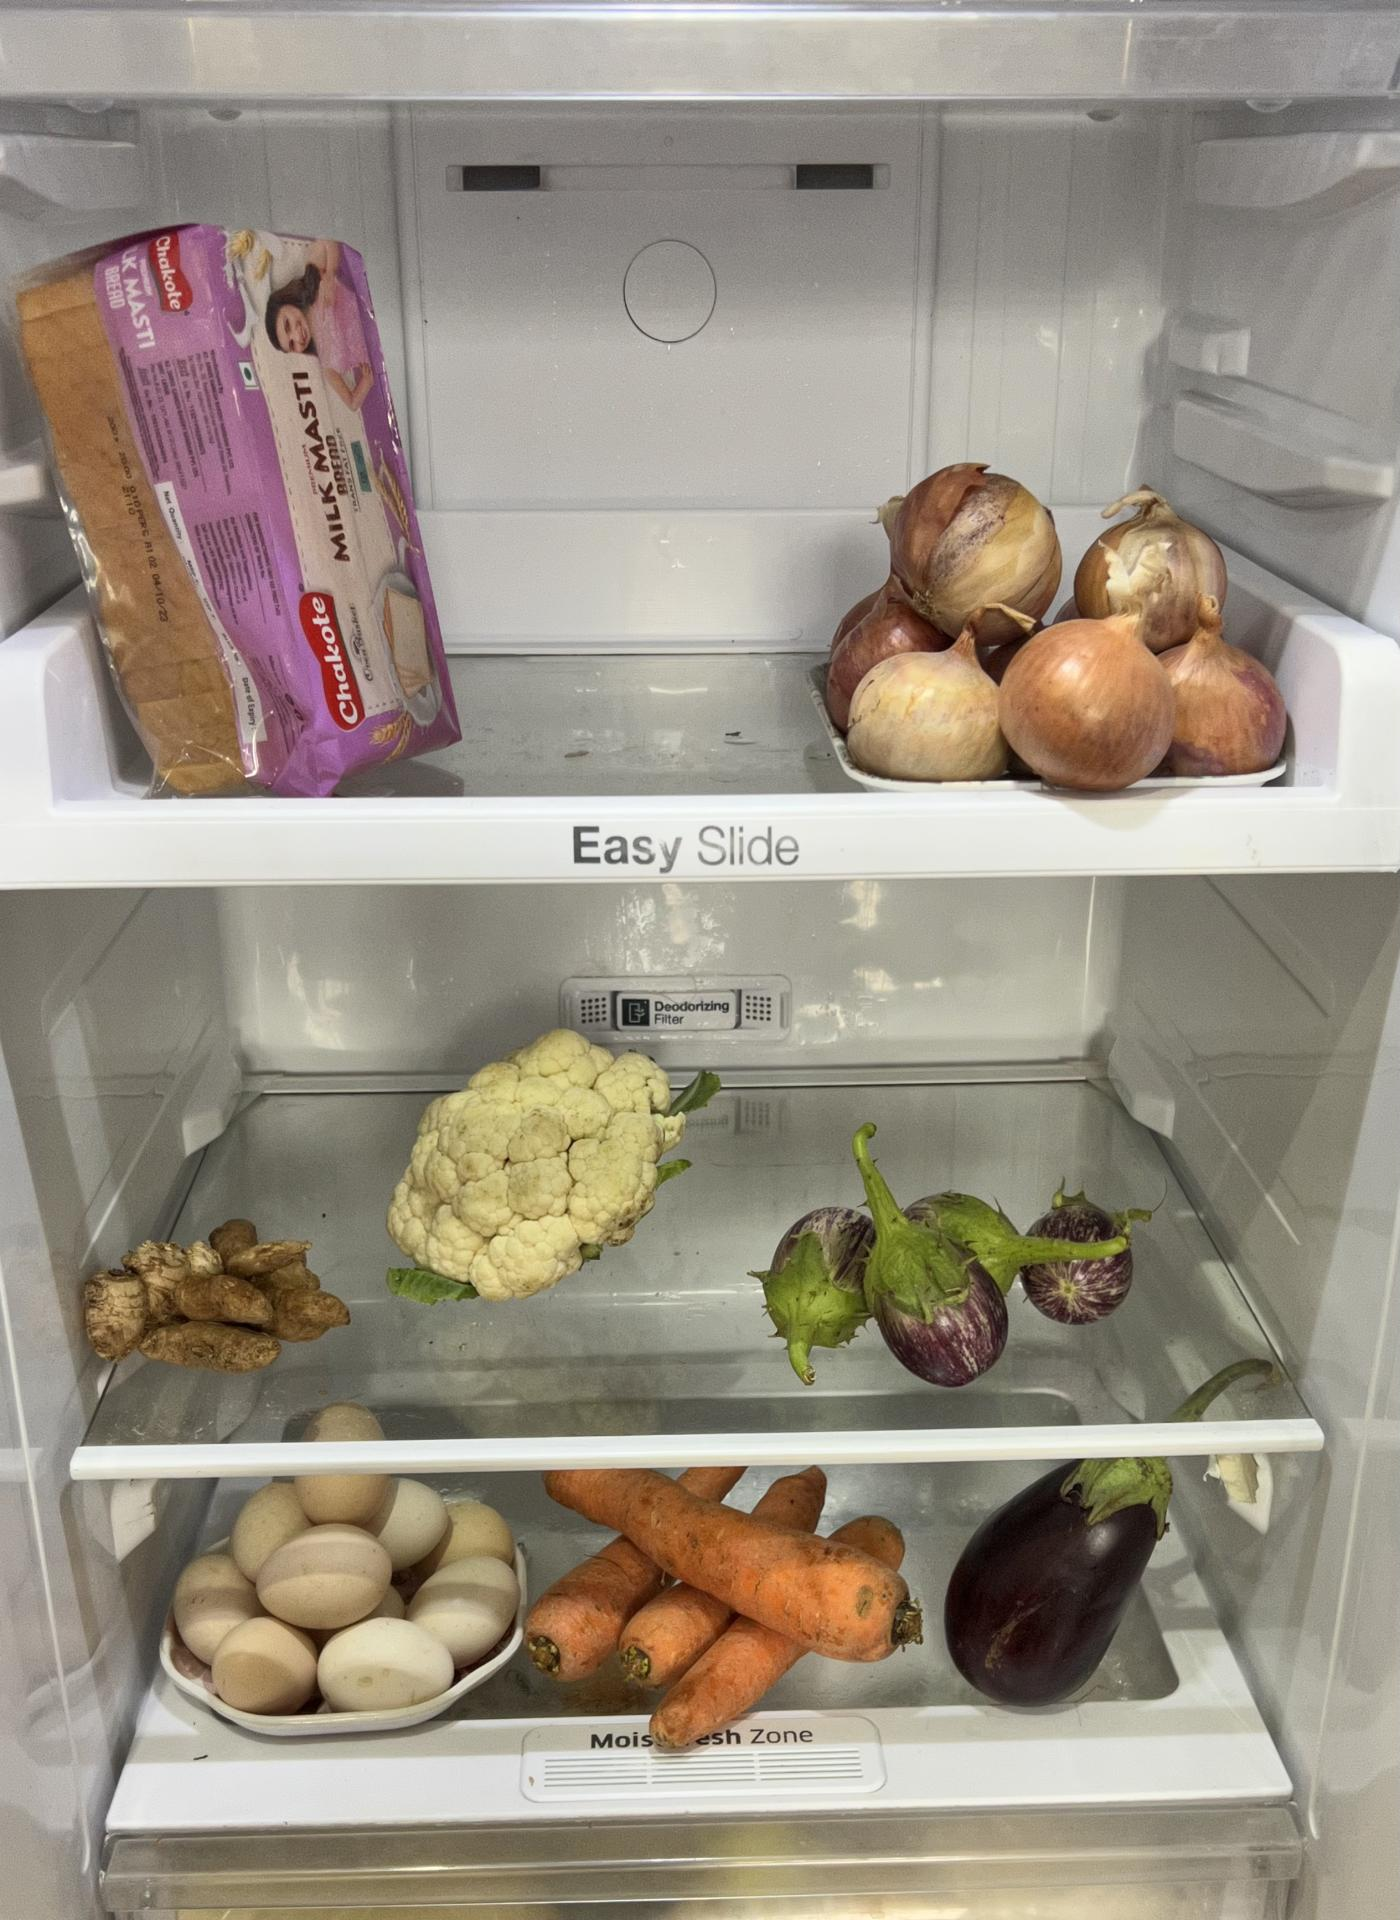bread: (16, 215, 461, 792)
carrots: (532, 1464, 936, 1762)
cauliflower: (395, 1026, 701, 1292)
egg: (164, 1461, 514, 1743)
ginger: (86, 1212, 359, 1380)
onion: (819, 452, 1290, 789)
